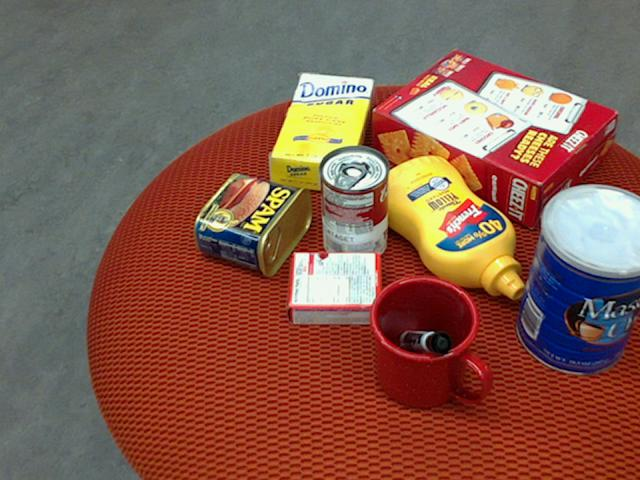cracker_box: (372, 48, 615, 226)
gelatin_box: (284, 251, 379, 328)
large_marker: (400, 330, 453, 354)
master_chef_can: (515, 185, 639, 375)
mug: (367, 275, 489, 409)
mustard_bottle: (370, 155, 524, 300)
potted_meat_can: (193, 172, 312, 276)
sugar_box: (269, 72, 373, 192)
tomato_soup_can: (318, 143, 389, 263)
tuna_fish_can: (550, 198, 639, 279)
